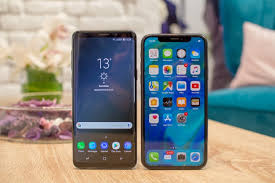iphone: (143, 31, 209, 171)
iphone10: (141, 29, 207, 169)
